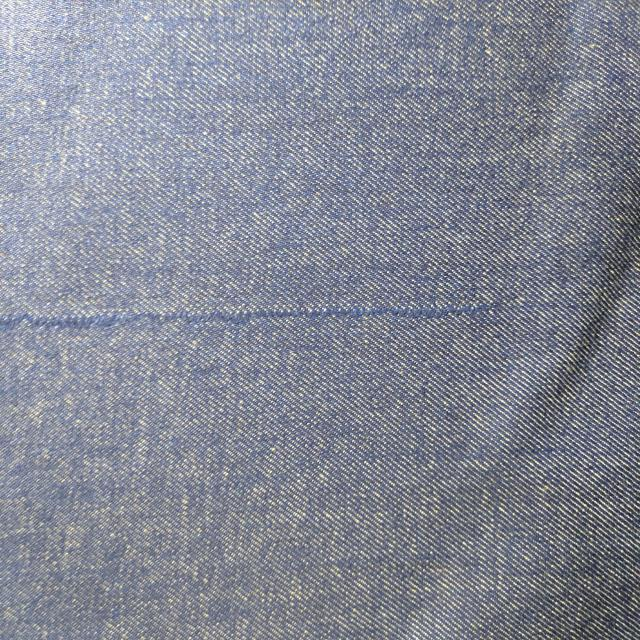Line: (0, 292, 515, 331)
